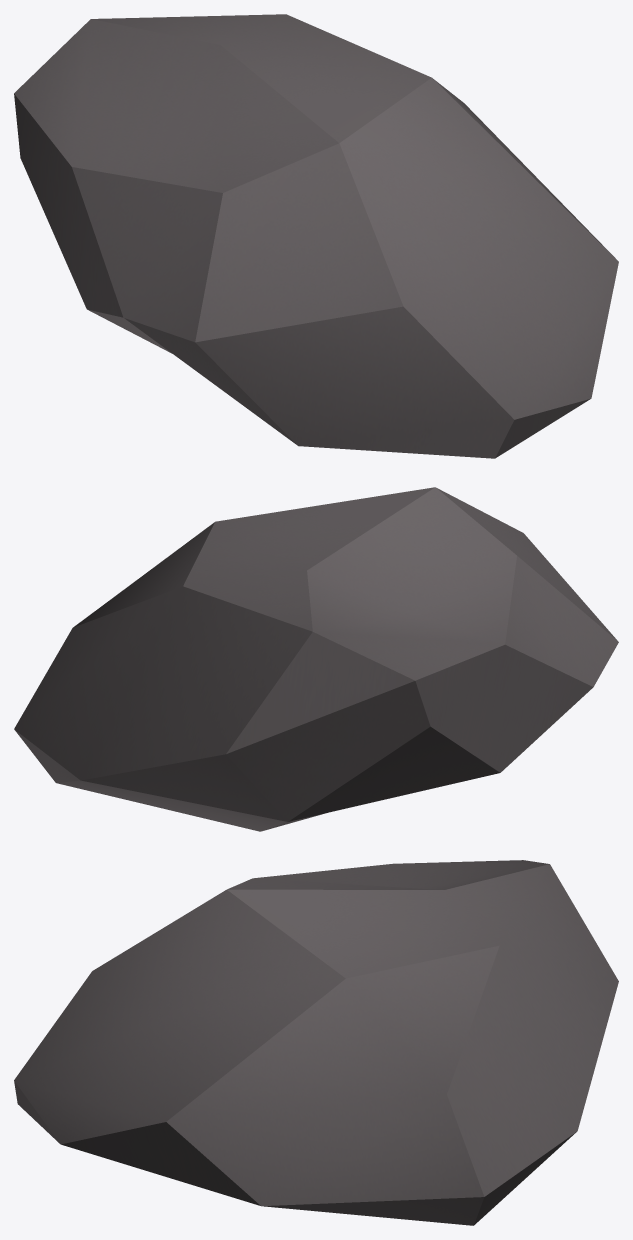
The model's file is Rocks11.fbx.
The picture shows the model from 3 angles, top to bottom: view 1: azimuth 30°, elevation 25°; view 2: azimuth 150°, elevation 25°; view 3: azimuth 270°, elevation 25°; orthographic projection. The views are drawn at different scales.
Parts seen in each view (by area): view 1: Rock.011; view 2: Rock.011; view 3: Rock.011.
Boxes of the visible parts, left/top/right/bottom form: Rock.011: left=14, top=14, right=618, bottom=458; Rock.011: left=14, top=487, right=618, bottom=831; Rock.011: left=14, top=860, right=618, bottom=1225.
Bounding box in the file's own units: 0.2674 × 0.1571 × 0.3379.
